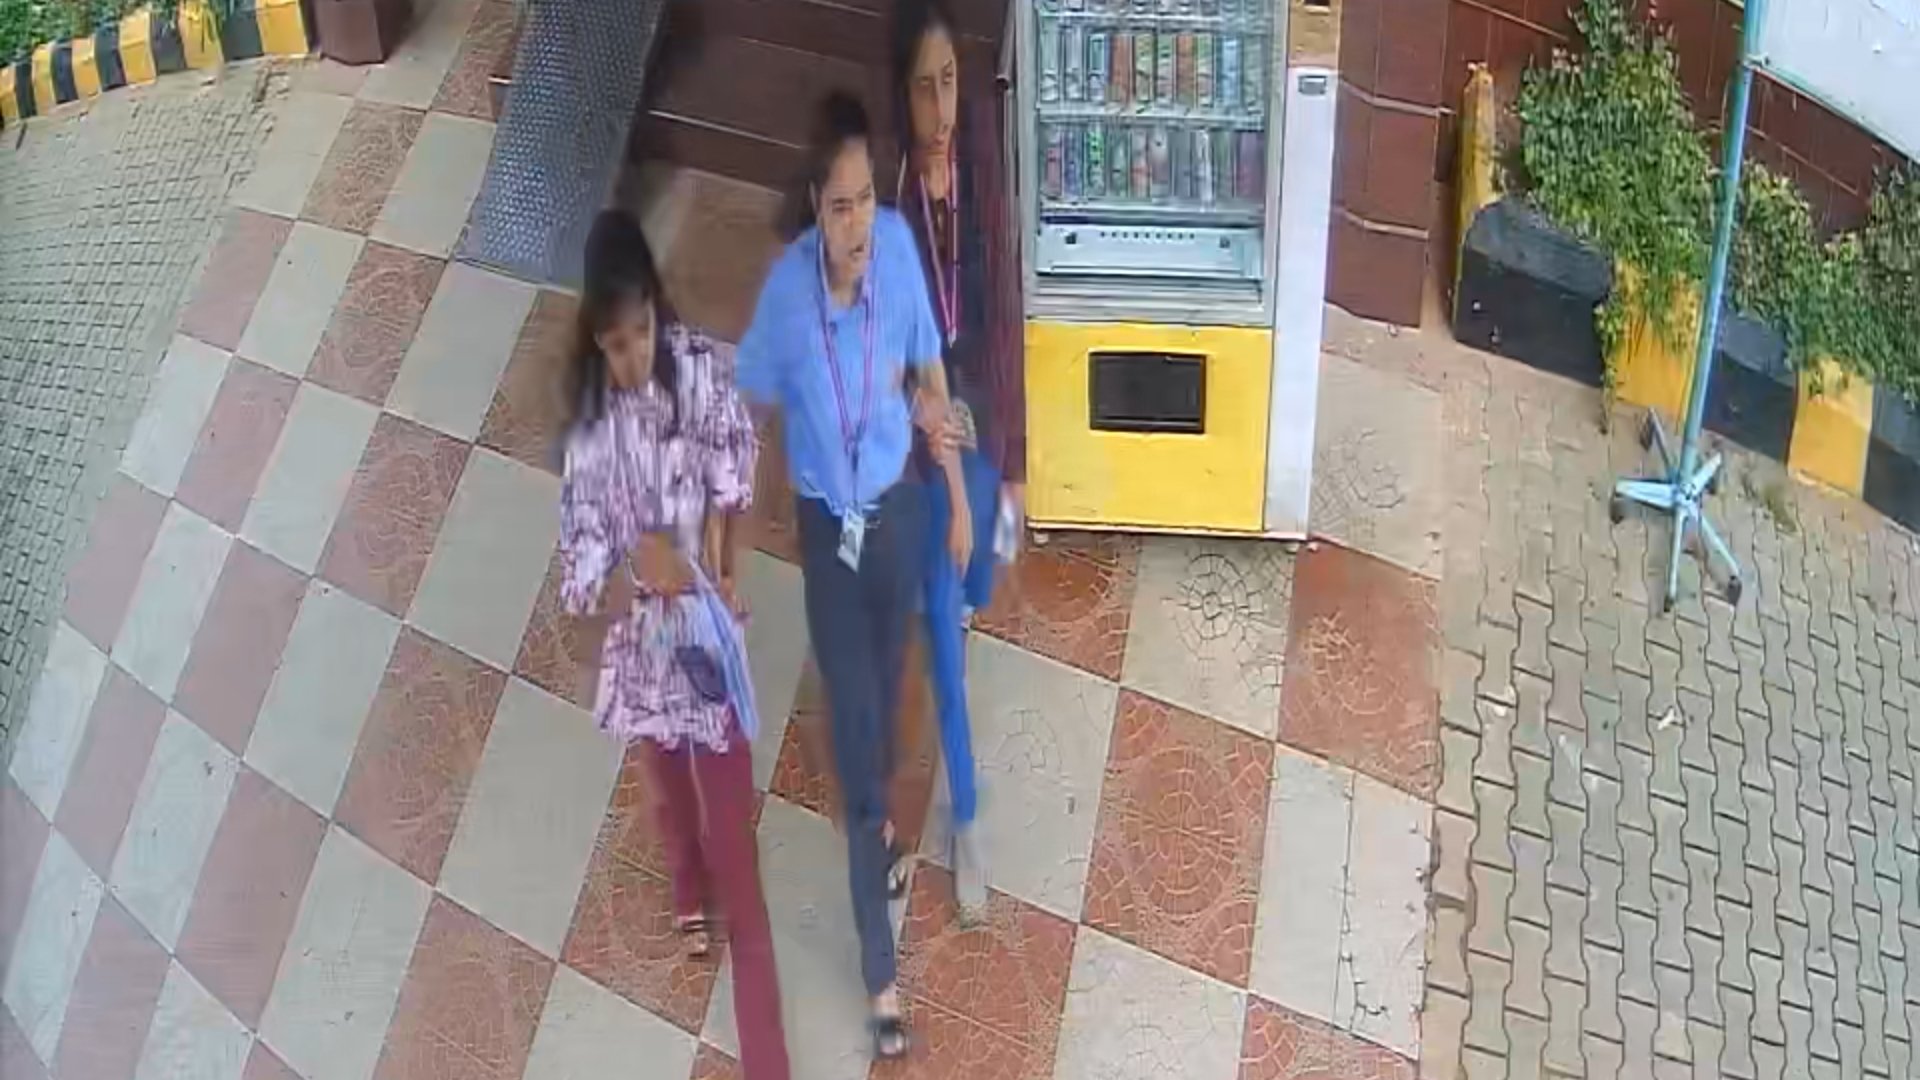not intruder: (531, 196, 804, 1080), (723, 84, 949, 1080), (853, 9, 1060, 920)
